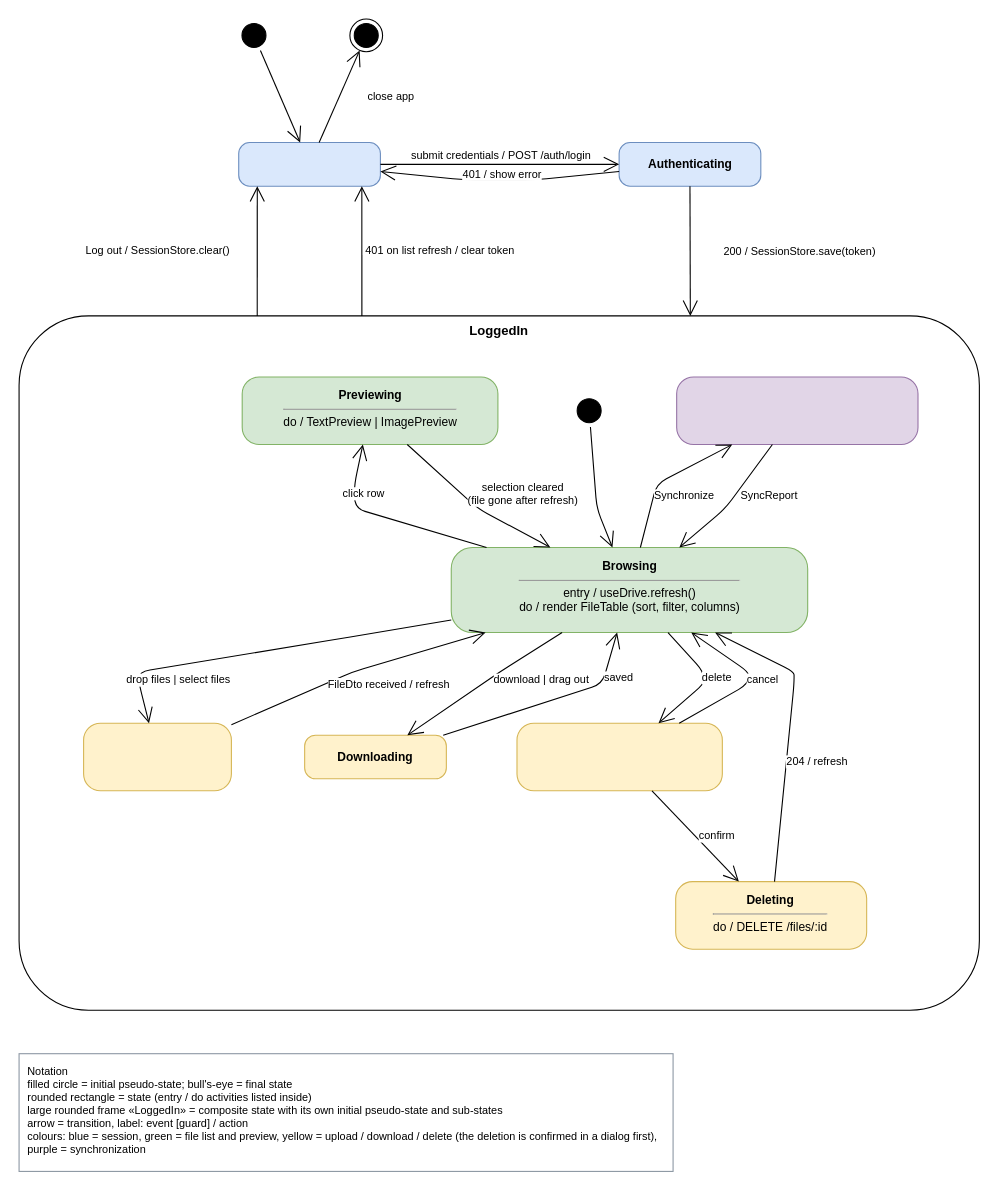
The diagram is 998 pixels wide and 1191 high, and some of its shapes have lost their labels. Each missing label, with the box of its shape:
ConfirmingDelete do / confirmation dialog: (516, 722, 722, 791)
LoggedOut: (238, 141, 380, 186)
Syncing do / SyncEngine.synchronize(): (676, 376, 918, 445)
Uploading do / POST /files: (83, 722, 231, 791)
